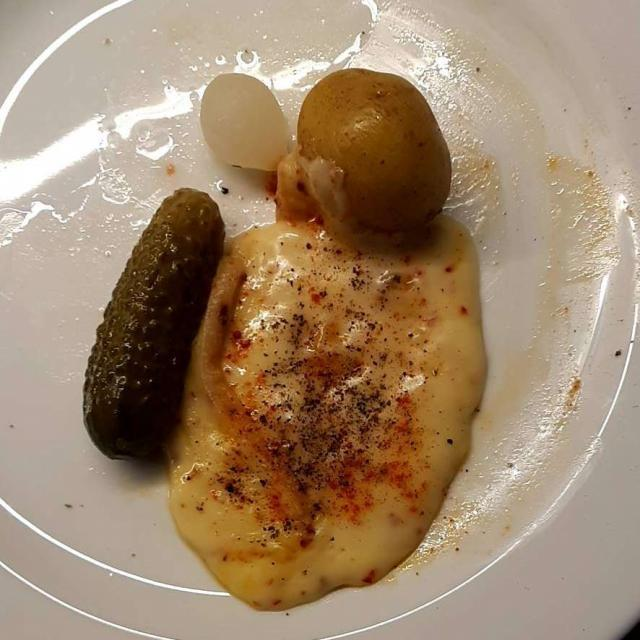cheese: (170, 208, 486, 614)
cucumber-pickled: (74, 184, 223, 461)
onions: (198, 72, 289, 181)
